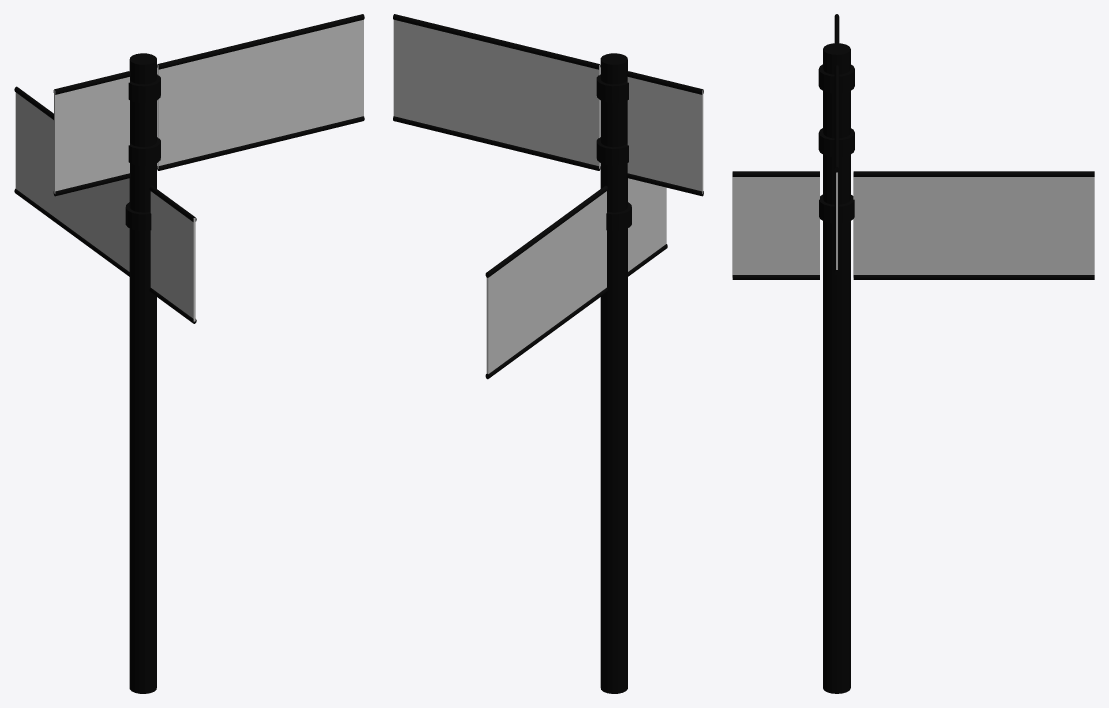
Rendered from Señal Calle.fbx.
3 renders of one model, left to right at view 1: azimuth 30°, elevation 25°; view 2: azimuth 150°, elevation 25°; view 3: azimuth 270°, elevation 25°, orthographic.
Visible parts, largest first — view 1: Cube, Cylinder, Cube.002, Cube.001, Cube.003, Cylinder.004, Cylinder.005, Cylinder.002, Cylinder.001, Cylinder.009, Cylinder.003; view 2: Cube, Cylinder, Cube.002, Cube.001, Cube.003, Cylinder.004, Cylinder.005, Cylinder.008, Cylinder.009, Cylinder.001, Cylinder.002, Cylinder.003 (+1 smaller); view 3: Cube.002, Cylinder, Cube.003, Cylinder.008, Cylinder.009, Cylinder.001, Cylinder.002, Cylinder.003, Cylinder.004.
Part boxes in pixels (bbox=[...]): Cube: bbox=[157, 19, 363, 168]; Cylinder: bbox=[129, 53, 156, 693]; Cube.002: bbox=[15, 92, 129, 271]; Cube.001: bbox=[54, 77, 129, 193]; Cube.003: bbox=[150, 191, 195, 321]; Cylinder.004: bbox=[157, 14, 364, 69]; Cylinder.005: bbox=[157, 116, 364, 170]; Cylinder.002: bbox=[128, 137, 160, 165]; Cylinder.001: bbox=[128, 74, 160, 102]; Cylinder.009: bbox=[14, 188, 129, 276]; Cylinder.003: bbox=[125, 202, 151, 230]; Cube: bbox=[393, 20, 600, 168]; Cylinder: bbox=[600, 53, 627, 693]; Cube.002: bbox=[486, 191, 606, 373]; Cube.001: bbox=[627, 77, 703, 193]; Cube.003: bbox=[628, 178, 666, 271]; Cylinder.004: bbox=[393, 14, 600, 69]; Cylinder.005: bbox=[393, 116, 600, 170]; Cylinder.008: bbox=[485, 185, 607, 277]; Cylinder.009: bbox=[485, 287, 607, 379]; Cylinder.001: bbox=[596, 74, 628, 102]; Cylinder.002: bbox=[596, 137, 628, 165]; Cylinder.003: bbox=[606, 202, 631, 230]; Cube.002: bbox=[853, 172, 1094, 277]; Cylinder: bbox=[823, 43, 850, 693]; Cube.003: bbox=[732, 172, 819, 277]; Cylinder.008: bbox=[853, 171, 1094, 176]; Cylinder.009: bbox=[853, 275, 1094, 279]; Cylinder.001: bbox=[818, 64, 854, 93]; Cylinder.002: bbox=[818, 128, 854, 156]; Cylinder.003: bbox=[819, 194, 854, 223]; Cylinder.004: bbox=[834, 65, 839, 172].
Size of the model in its own units: 118 by 230 by 118.
